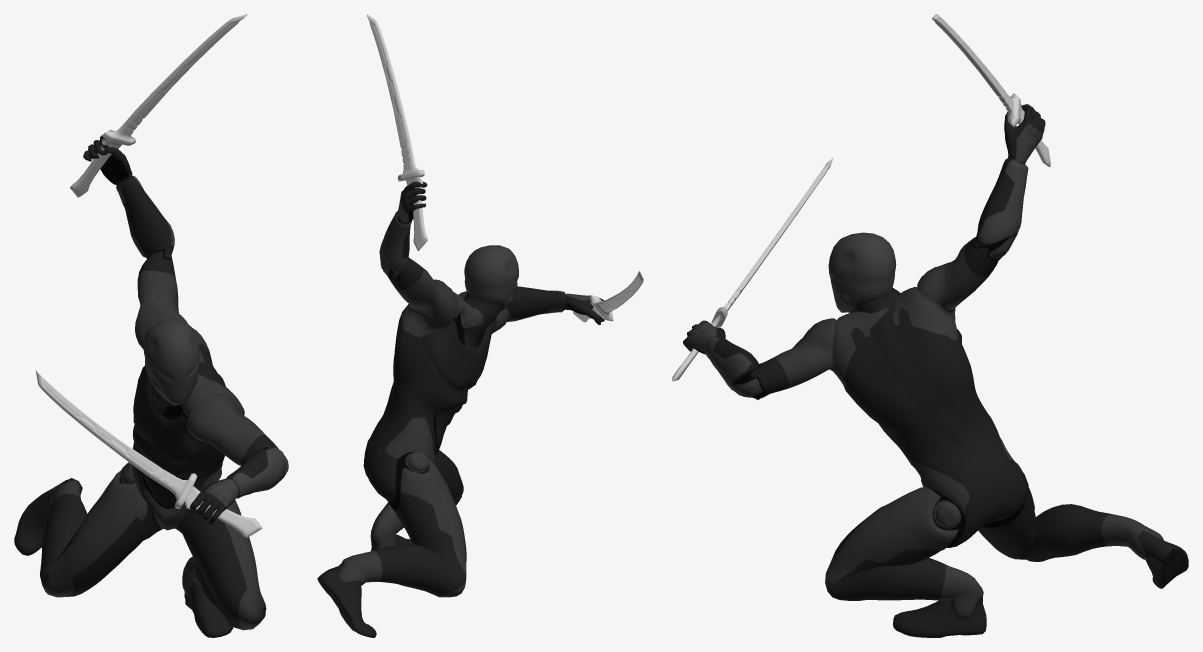
3 views of the same model, side by side, from view 1: azimuth 30°, elevation 25°; view 2: azimuth 150°, elevation 25°; view 3: azimuth 270°, elevation 25° (orthographic). The views are drawn at different scales.
Visible parts, largest first — view 1: Cyborg_Ninja_Killer, Sword_l, Sword_l001; view 2: Cyborg_Ninja_Killer, Sword_l001, Sword_l; view 3: Cyborg_Ninja_Killer, Sword_l001, Sword_l.
Boxes of the visible parts, x1,y1,x2,y2 form: Cyborg_Ninja_Killer: (14, 135, 288, 637); Sword_l: (35, 370, 262, 537); Sword_l001: (70, 14, 247, 197); Cyborg_Ninja_Killer: (317, 181, 611, 637); Sword_l001: (367, 14, 427, 251); Sword_l: (573, 271, 643, 322); Cyborg_Ninja_Killer: (683, 104, 1188, 637); Sword_l001: (932, 14, 1050, 166); Sword_l: (672, 158, 833, 381).
Size of the model in its own units: 96.33 by 212 by 157.
